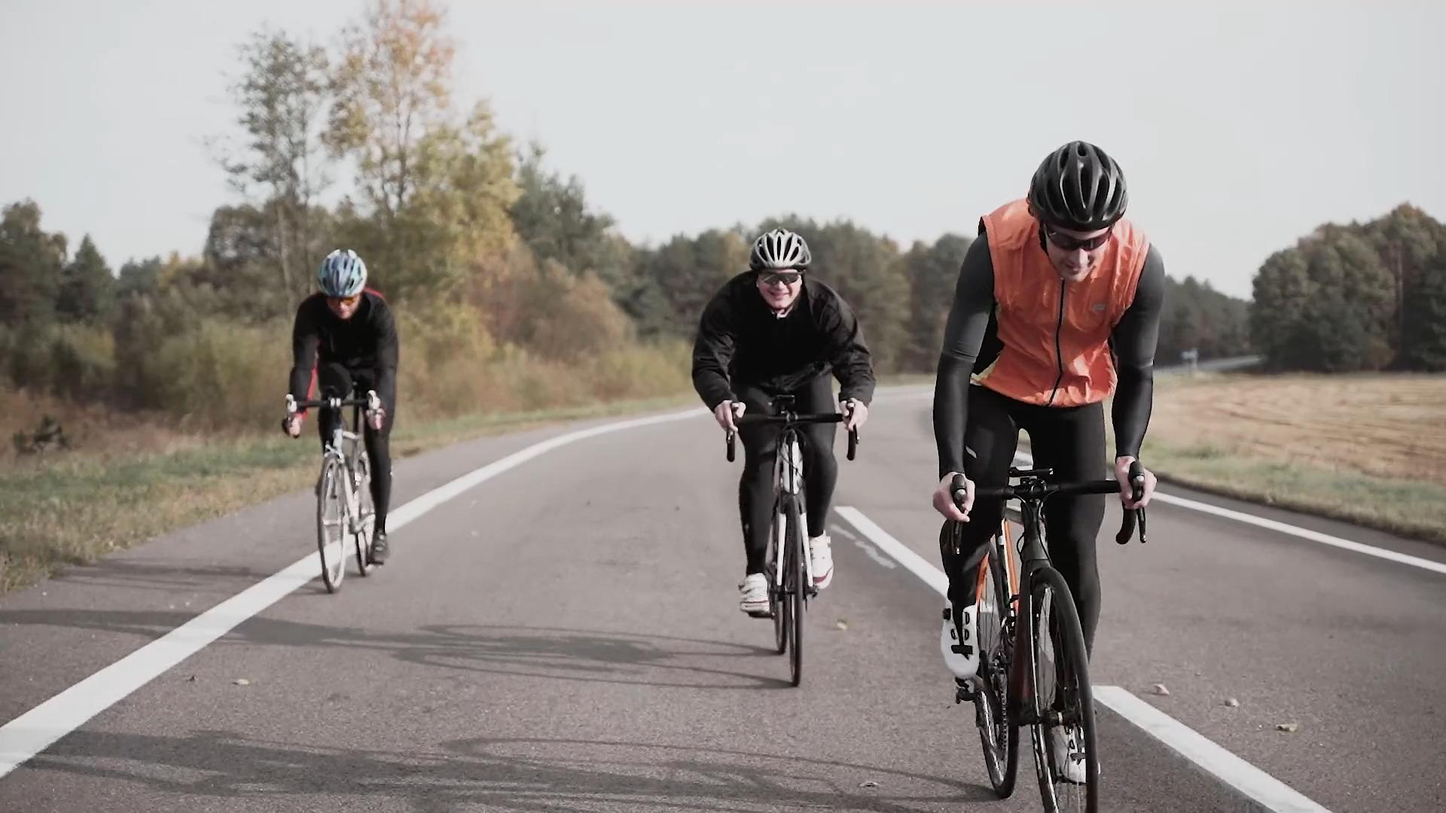bicyclist: (931, 140, 1168, 813), (691, 225, 878, 689), (281, 247, 399, 594)
helmet: (1025, 139, 1129, 285), (749, 226, 813, 317), (316, 247, 368, 321)
